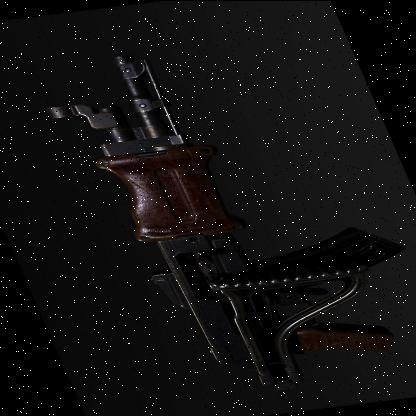rifle: (58, 26, 416, 391)
